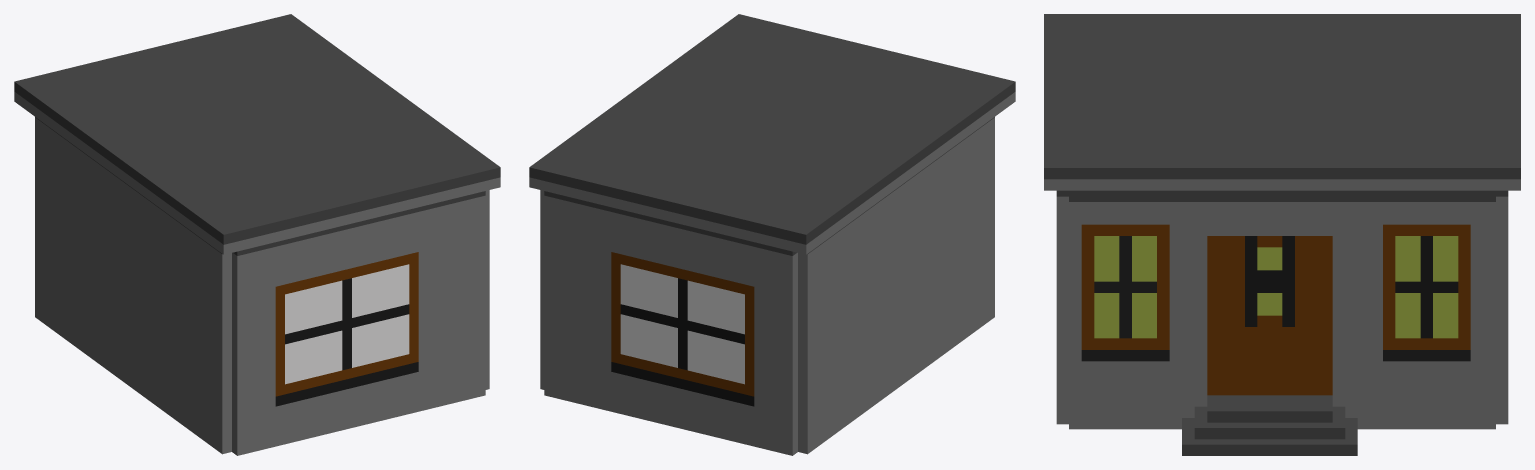
The model's file is building 3.obj.
3 renders of one model, left to right at view 1: azimuth 30°, elevation 25°; view 2: azimuth 150°, elevation 25°; view 3: azimuth 270°, elevation 25°, orthographic. The views are drawn at different scales.
Size of the model in its own units: 3.4 by 2.3 by 3.8.
1 material, 1 textured.
